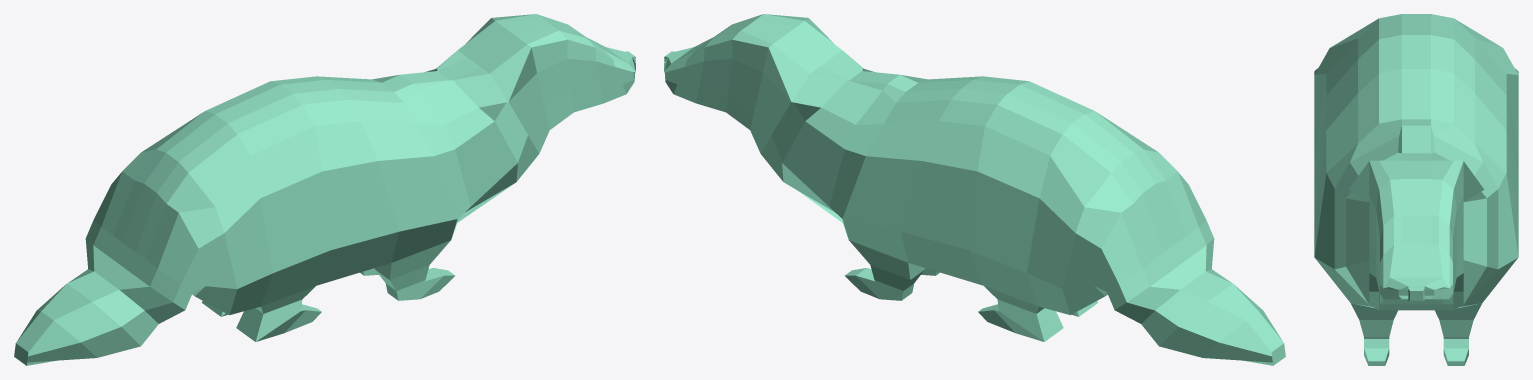
Rendered from PlayableCharakter_badger_v.fbx.
3 renders of one model, left to right at view 1: azimuth 30°, elevation 25°; view 2: azimuth 150°, elevation 25°; view 3: azimuth 270°, elevation 25°, orthographic. The views are drawn at different scales.
Visible parts, largest first — view 1: Plane; view 2: Plane; view 3: Plane.
Part boxes in pixels (x1,y1,x2,y2): Plane: [14, 14, 635, 365]; Plane: [664, 14, 1285, 365]; Plane: [1314, 14, 1518, 365].
Bounding box in the file's own units: 460 × 161 × 114.
